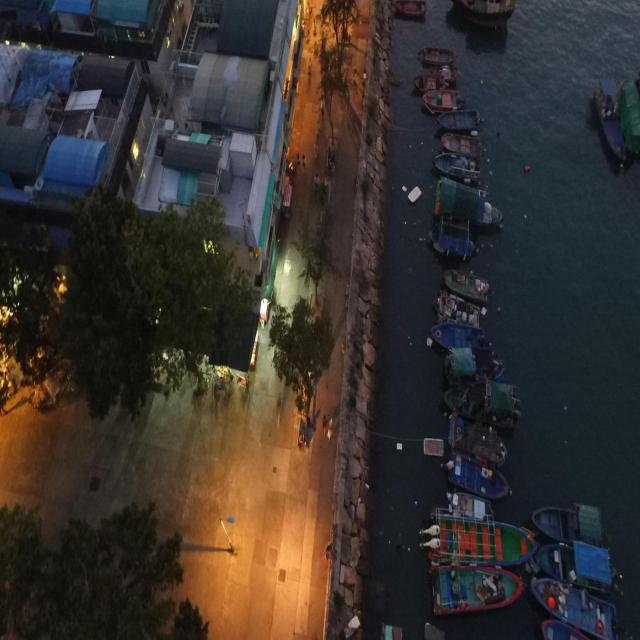tree: (1, 496, 210, 638), (0, 214, 63, 415), (268, 293, 334, 427), (312, 0, 361, 145)
